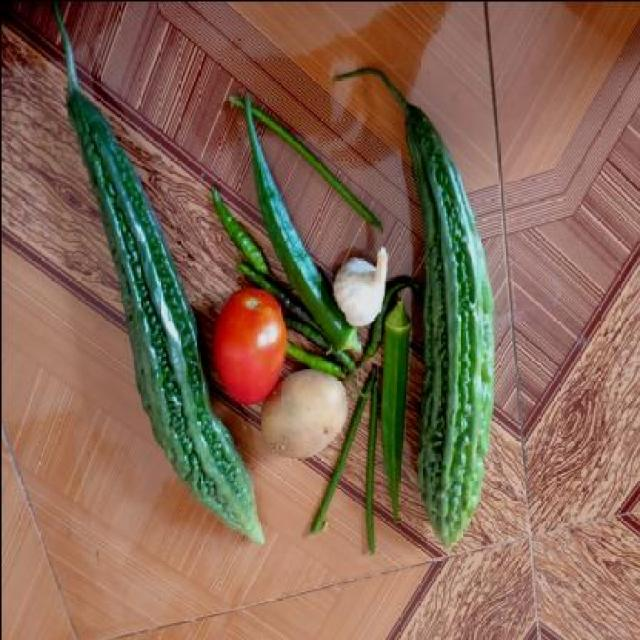Bitter melon: (20, 46, 215, 548), (408, 94, 490, 554)
Garlic: (322, 225, 388, 326)
Green Chili: (202, 185, 269, 277)
Lady finger: (376, 295, 412, 523)
Potato: (254, 369, 351, 465)
Tomato: (210, 285, 288, 403)
